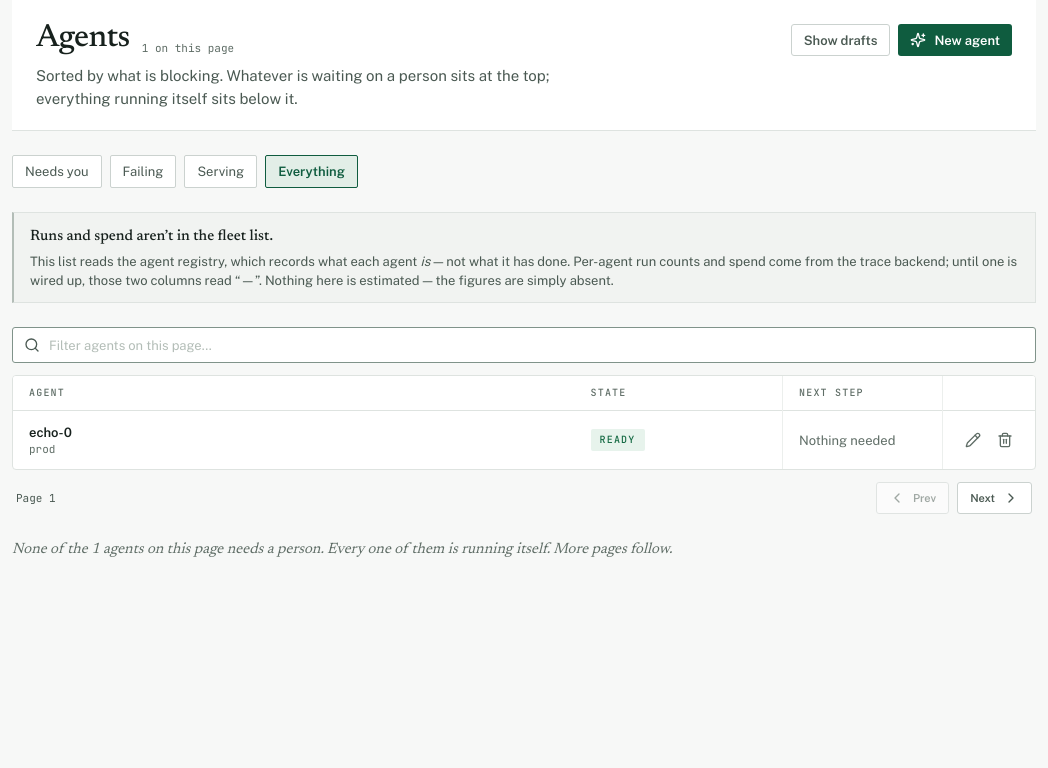
Scenario: AgentsPage (DataTable + list contract) › keeps Next live on an empty FILTERED window when more pages exist (cursor-vs-q)
Expected: the text "echo-0" is shown, [29,423,72,442]
Type "zzz" into the field named "Filter list" at (524, 345), box [12,327,1036,363]
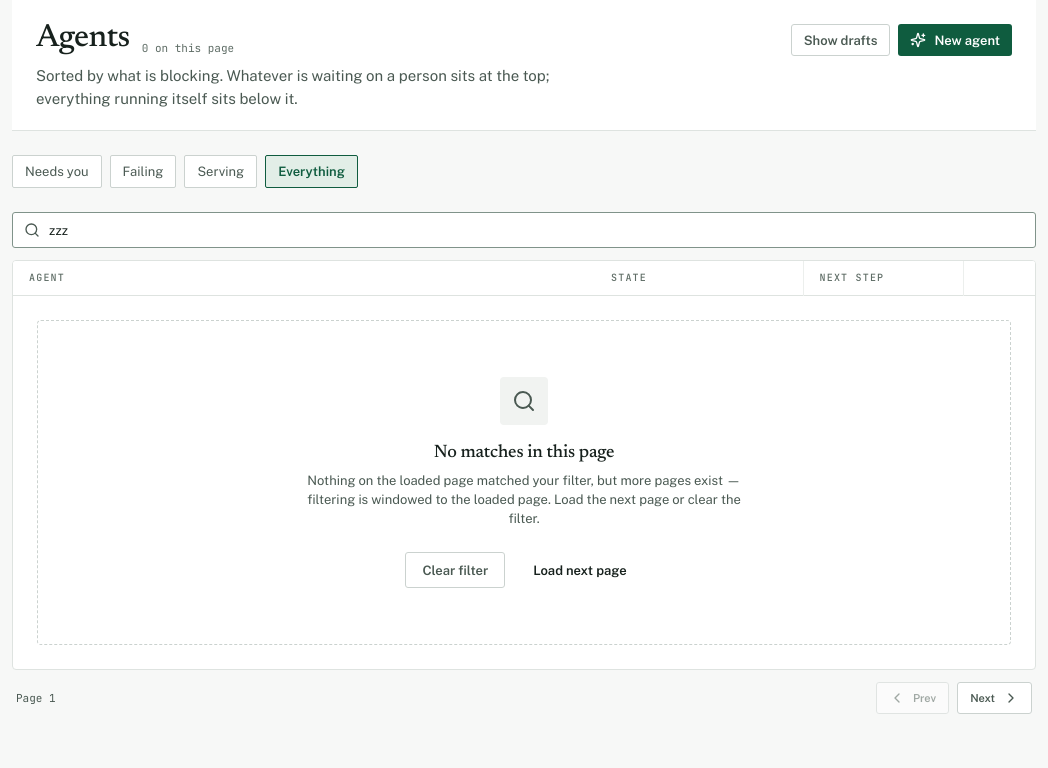
Expected: the button with aria-label "Next page" is enabled, [957,682,1032,714]
Now the heading "No matches in this page" is shown, box [434,441,614,465]
